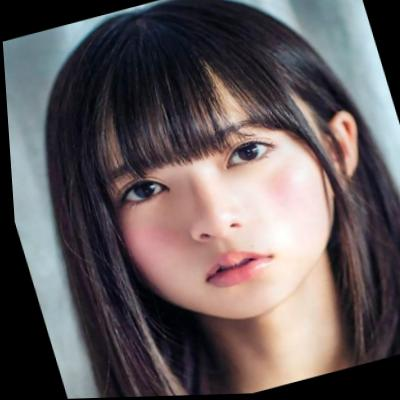netural: (90, 77, 366, 341)
